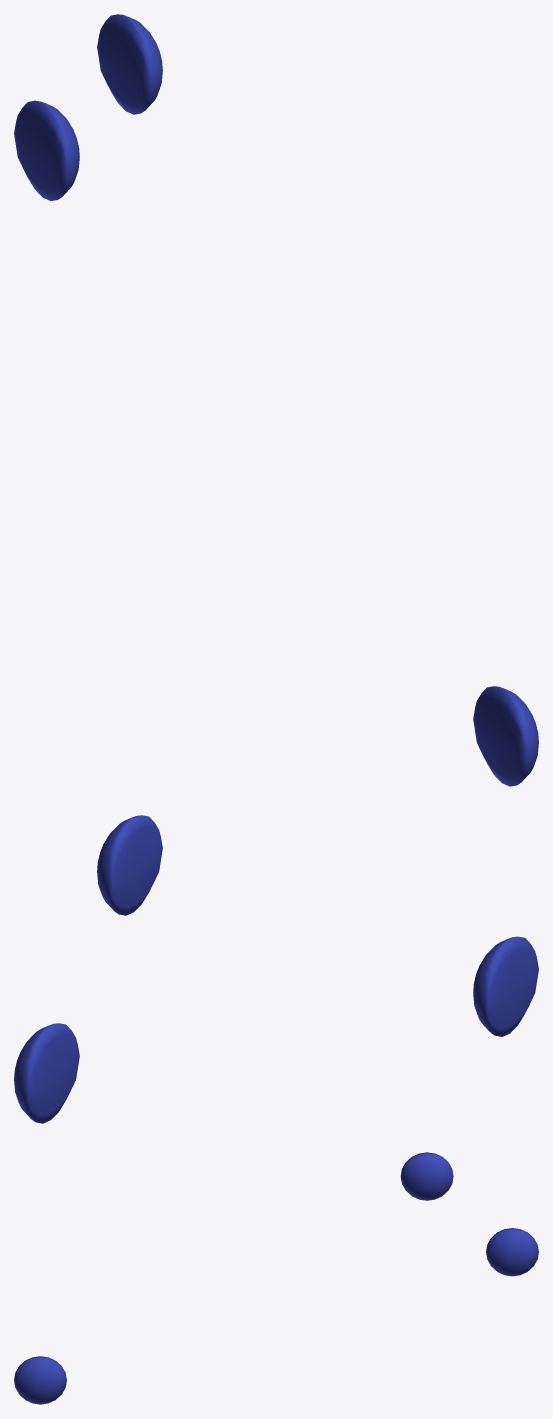
The model's file is magenentgroup.fbx.
The picture shows the model from 3 angles, top to bottom: view 1: azimuth 30°, elevation 25°; view 2: azimuth 150°, elevation 25°; view 3: azimuth 270°, elevation 25°; orthographic projection. The views are drawn at different scales.
Parts seen in each view (by area): view 1: polySurface18; view 2: polySurface18; view 3: polySurface18.
Boxes of the visible parts, x1,y1,x2,y2 form: polySurface18: [14, 14, 538, 786]; polySurface18: [14, 815, 538, 1123]; polySurface18: [14, 1152, 538, 1404].
Size of the model in its own units: 0.024 by 0.3376 by 0.6375.
